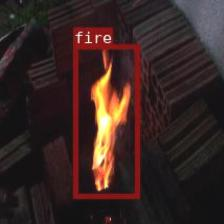fire: (72, 44, 139, 198)
